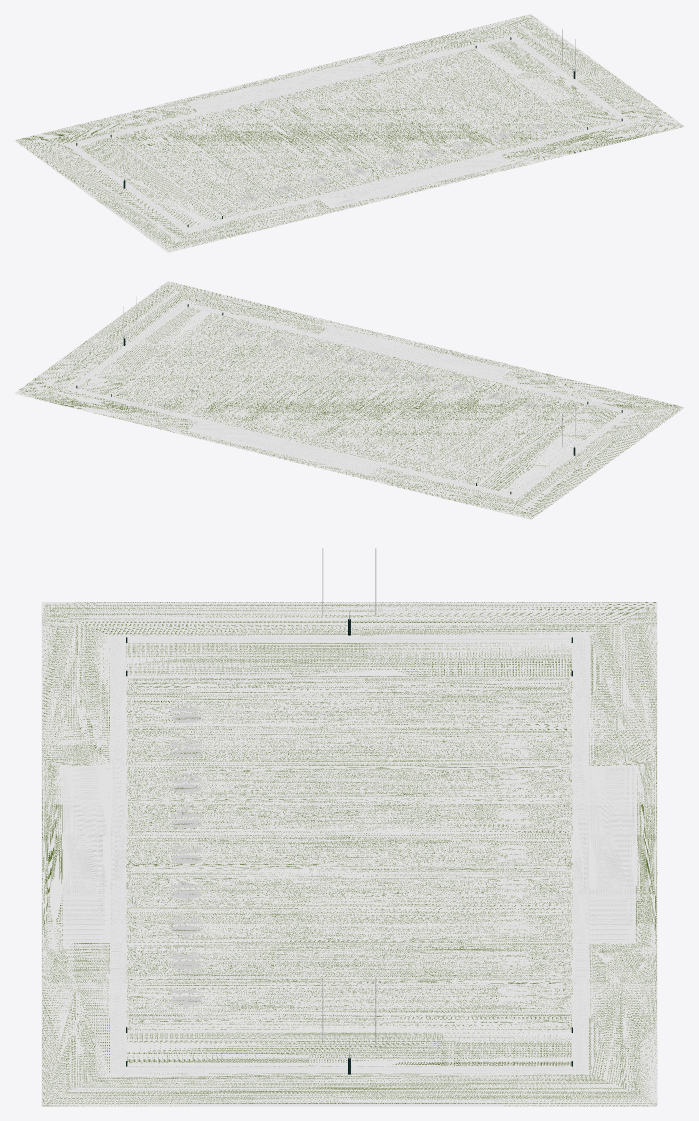
3 renders of one model, top to bottom at view 1: azimuth 30°, elevation 25°; view 2: azimuth 150°, elevation 25°; view 3: azimuth 270°, elevation 25°, orthographic. The views are drawn at different scales.
Visible parts, largest first — view 1: SketchUp (×25); view 2: SketchUp (×25); view 3: SketchUp (×25).
Part boxes in pixels (left/top/right/bottom): SketchUp (×25): left=14, top=14, right=684, bottom=252; SketchUp (×25): left=14, top=281, right=684, bottom=519; SketchUp (×25): left=41, top=602, right=657, bottom=1106.
Size of the model in its own units: 6794 by 3501 by 575.
Materials: 5 (2 with a texture image).
